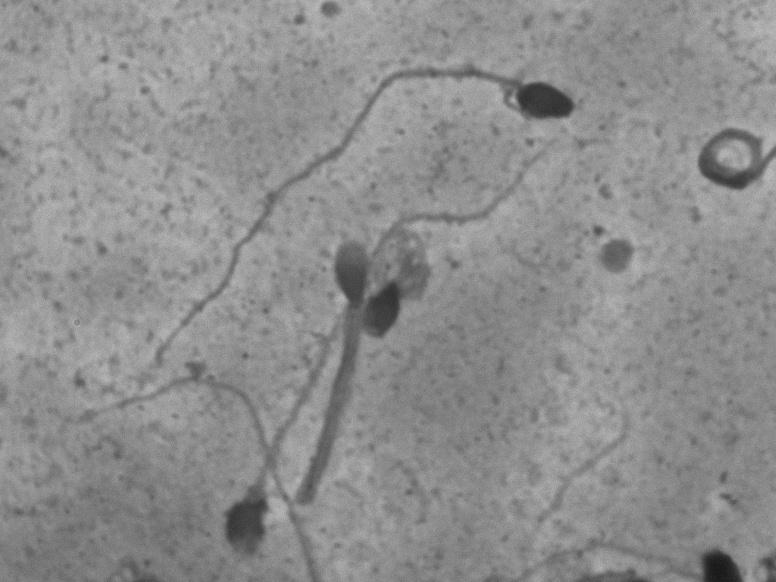Abnormal: (283, 222, 473, 525), (275, 44, 607, 198)
